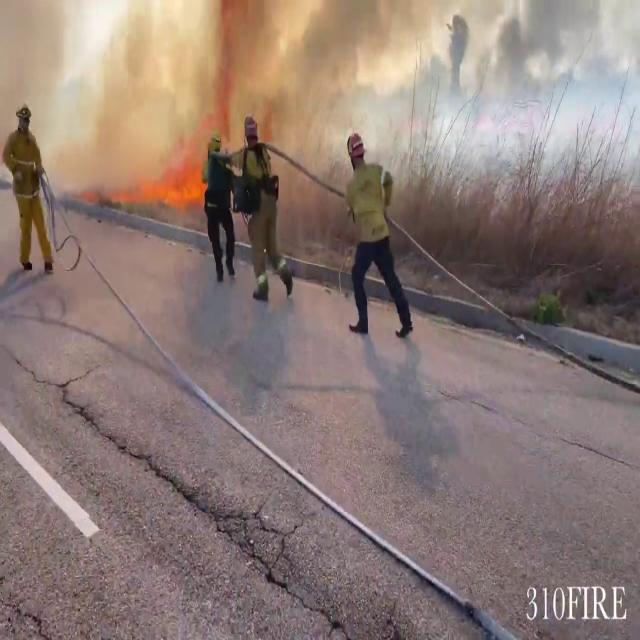Smoke: (0, 1, 636, 168)
